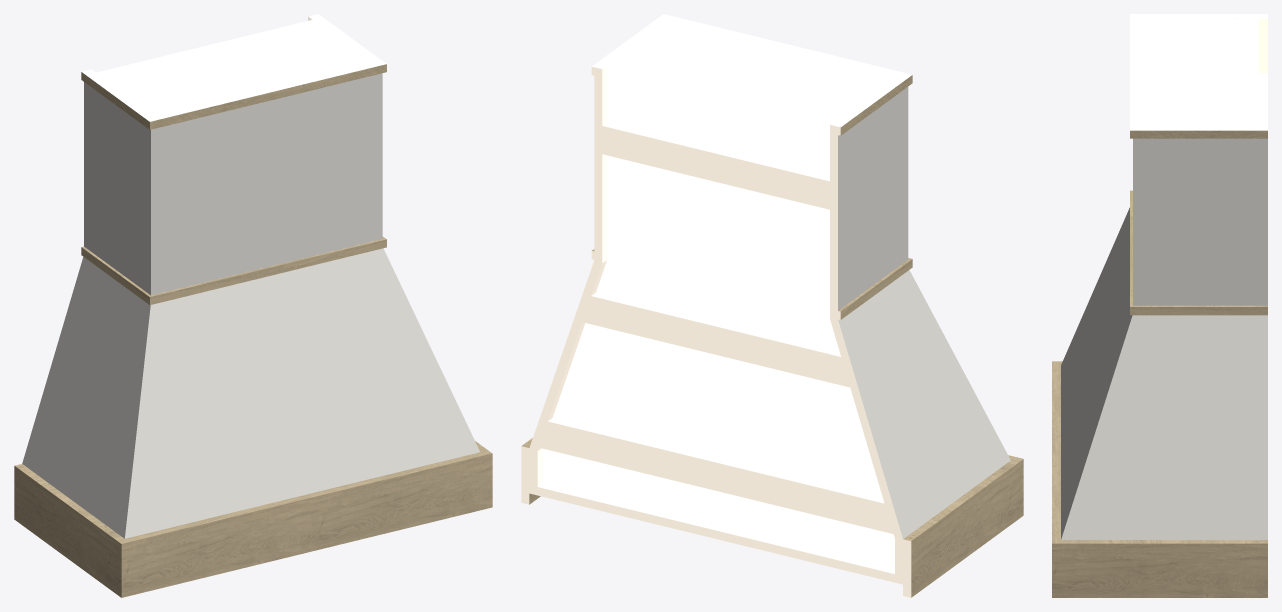
File: range-hood.glb
3 views of the same model, side by side, from view 1: azimuth 30°, elevation 25°; view 2: azimuth 150°, elevation 25°; view 3: azimuth 270°, elevation 25° (orthographic). The views are drawn at different scales.
Visible parts, largest first — view 1: range-hood; view 2: range-hood; view 3: range-hood.
Boxes of the visible parts, x1,y1,x2,y2 form: range-hood: (14, 14, 492, 597); range-hood: (521, 14, 1023, 597); range-hood: (1052, 14, 1267, 597).
Size of the model in its own units: 0.9144 by 1.02 by 0.4572.
5 materials, 1 textured.
